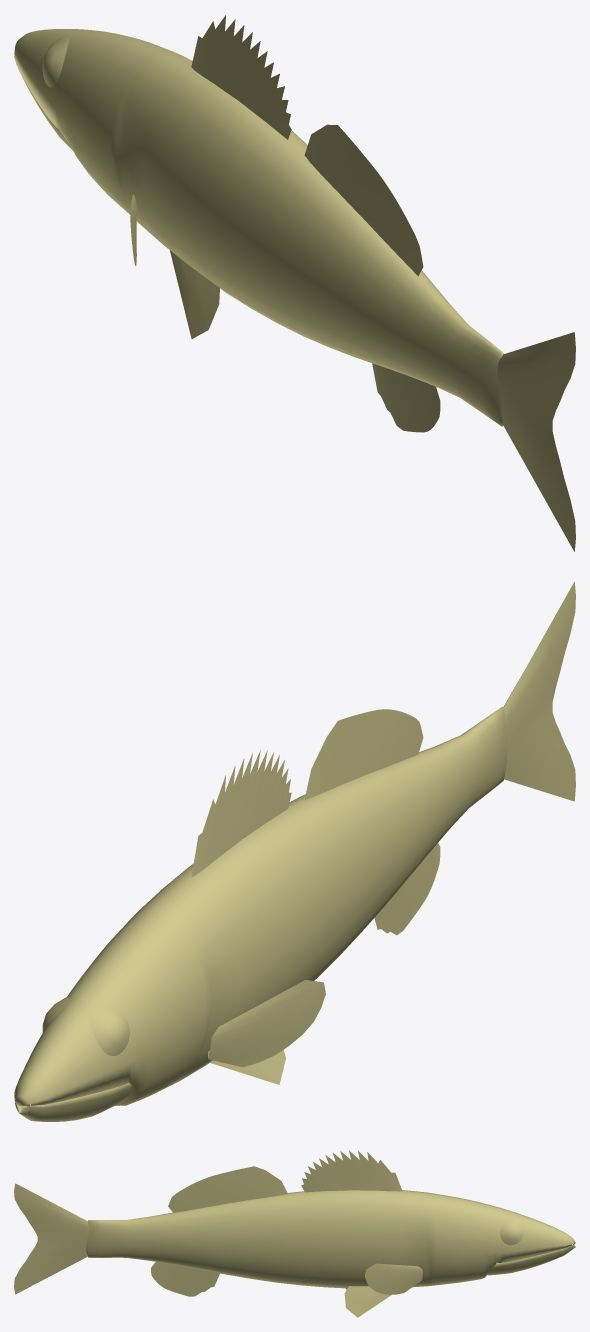
The model's file is walleye_game.glb.
The picture shows the model from 3 angles, top to bottom: view 1: azimuth 30°, elevation 25°; view 2: azimuth 150°, elevation 25°; view 3: azimuth 270°, elevation 25°; orthographic projection. The views are drawn at different scales.
Parts seen in each view (by area): view 1: walleye_game; view 2: walleye_game; view 3: walleye_game.
Boxes of the visible parts, x1,y1,x2,y2 form: walleye_game: (14, 15, 575, 551); walleye_game: (14, 581, 575, 1121); walleye_game: (14, 1150, 575, 1317).
Bounding box in the file's own units: 0.1395 × 0.2129 × 0.6913.
